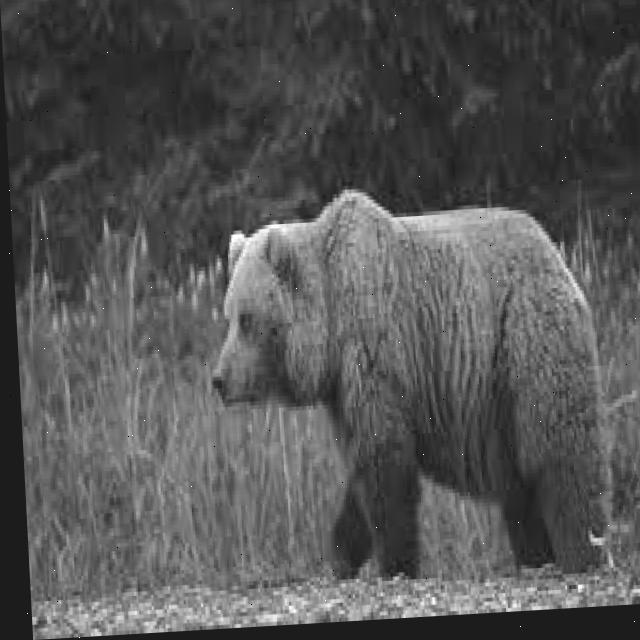Bear: (216, 196, 632, 588)
